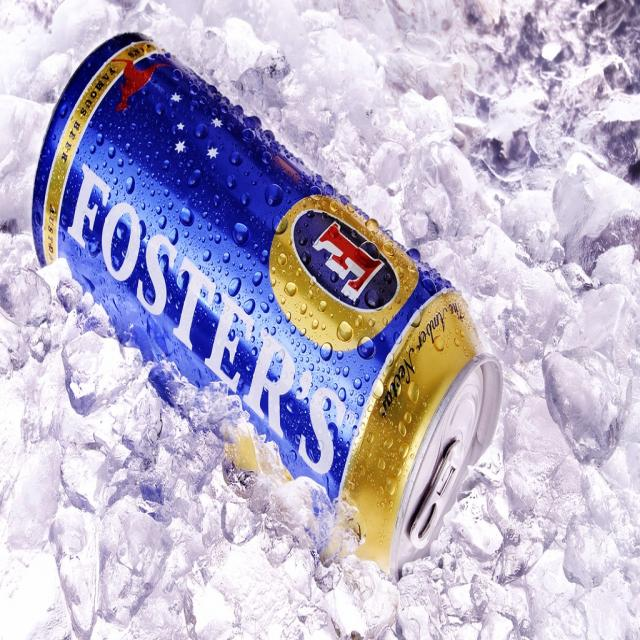fosters: (264, 191, 421, 356)
